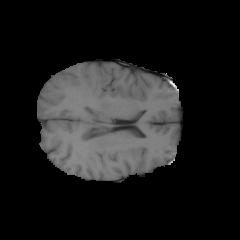glioma: (67, 70, 96, 107)
